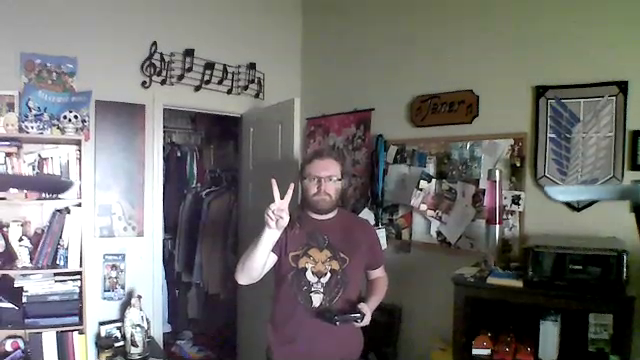peace: (260, 173, 300, 238)
